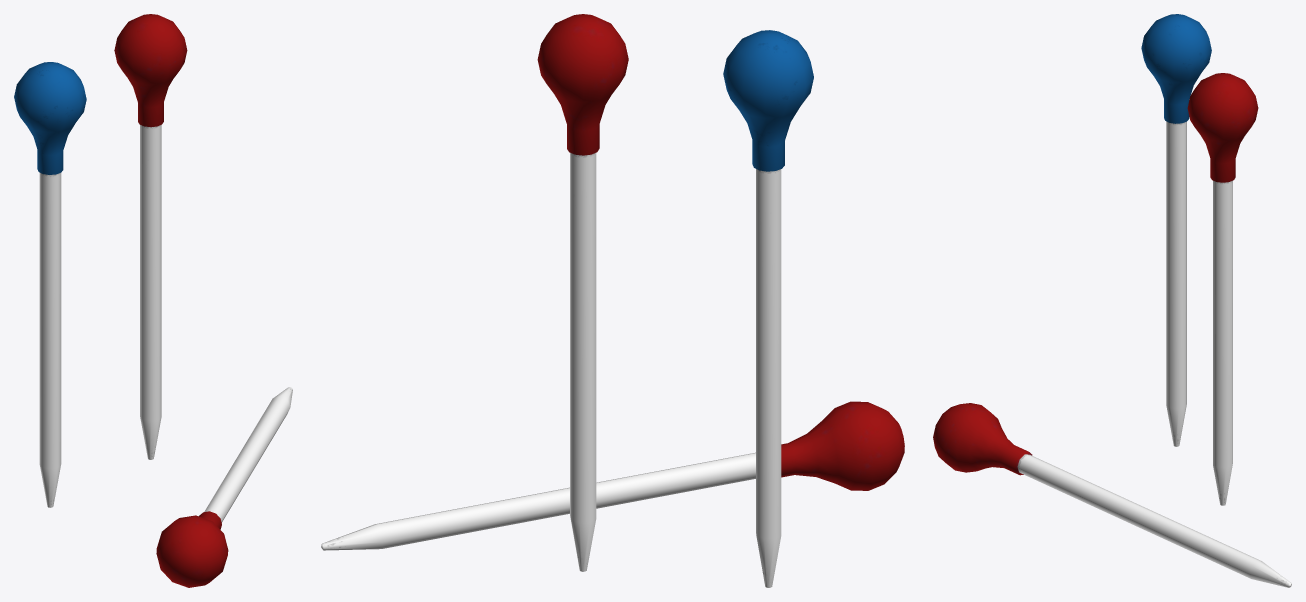
The model's file is pipette.glb.
3 views of the same model, side by side, from view 1: azimuth 30°, elevation 25°; view 2: azimuth 150°, elevation 25°; view 3: azimuth 270°, elevation 25° (orthographic). The views are drawn at different scales.
Visible parts, largest first — view 1: Blue_piette_NakedSingularity, Red_piette_NakedSingularity, Red_piette_NakedSingularity1; view 2: Red_piette_NakedSingularity, Blue_piette_NakedSingularity, Red_piette_NakedSingularity1; view 3: Blue_piette_NakedSingularity, Red_piette_NakedSingularity, Red_piette_NakedSingularity1.
Part boxes in pixels (x1,y1,x2,y2): Blue_piette_NakedSingularity: (14, 62, 86, 507); Red_piette_NakedSingularity: (114, 14, 187, 459); Red_piette_NakedSingularity1: (156, 387, 292, 587); Red_piette_NakedSingularity: (537, 14, 628, 571); Blue_piette_NakedSingularity: (723, 30, 813, 587); Red_piette_NakedSingularity1: (321, 401, 904, 550); Blue_piette_NakedSingularity: (1141, 14, 1211, 446); Red_piette_NakedSingularity: (1187, 73, 1258, 505); Red_piette_NakedSingularity1: (933, 403, 1291, 587).
Size of the model in its own units: 0.1433 by 0.1856 by 0.1385.
3 materials, 3 textured.
